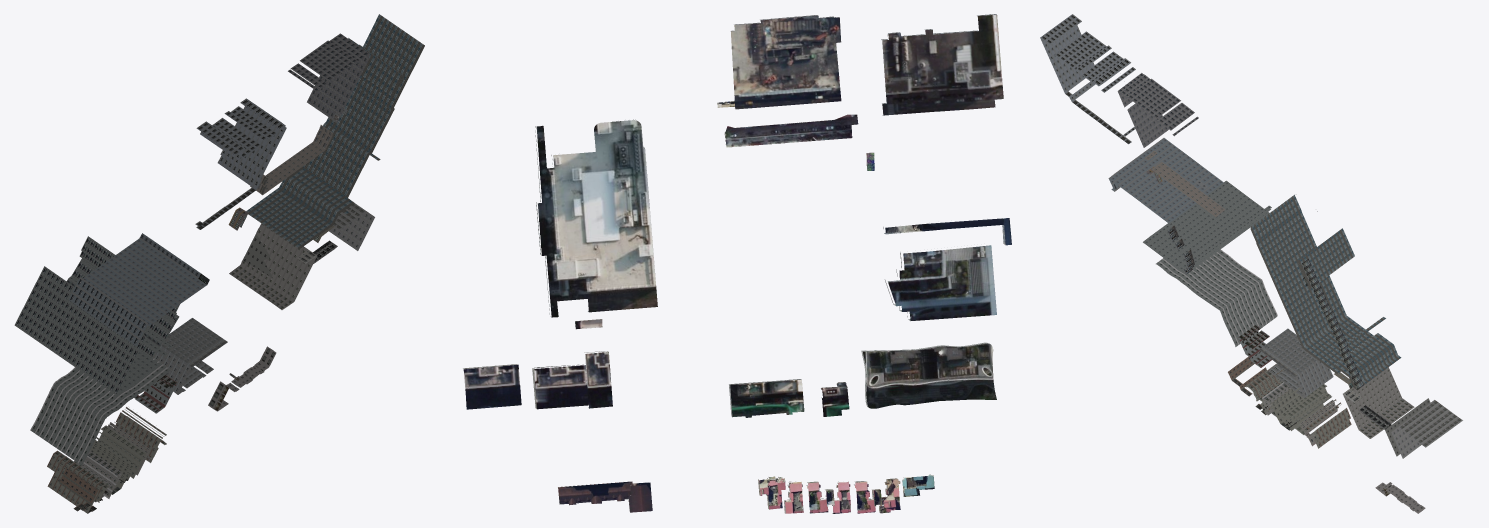
The model's file is tile_LOD8_r2_c7.glb.
3 views of the same model, side by side, from view 1: azimuth 30°, elevation 25°; view 2: azimuth 150°, elevation 25°; view 3: azimuth 270°, elevation 25° (orthographic). The views are drawn at different scales.
Size of the model in its own units: 334 by 315 by 314.
Materials: 111 (111 with a texture image).
